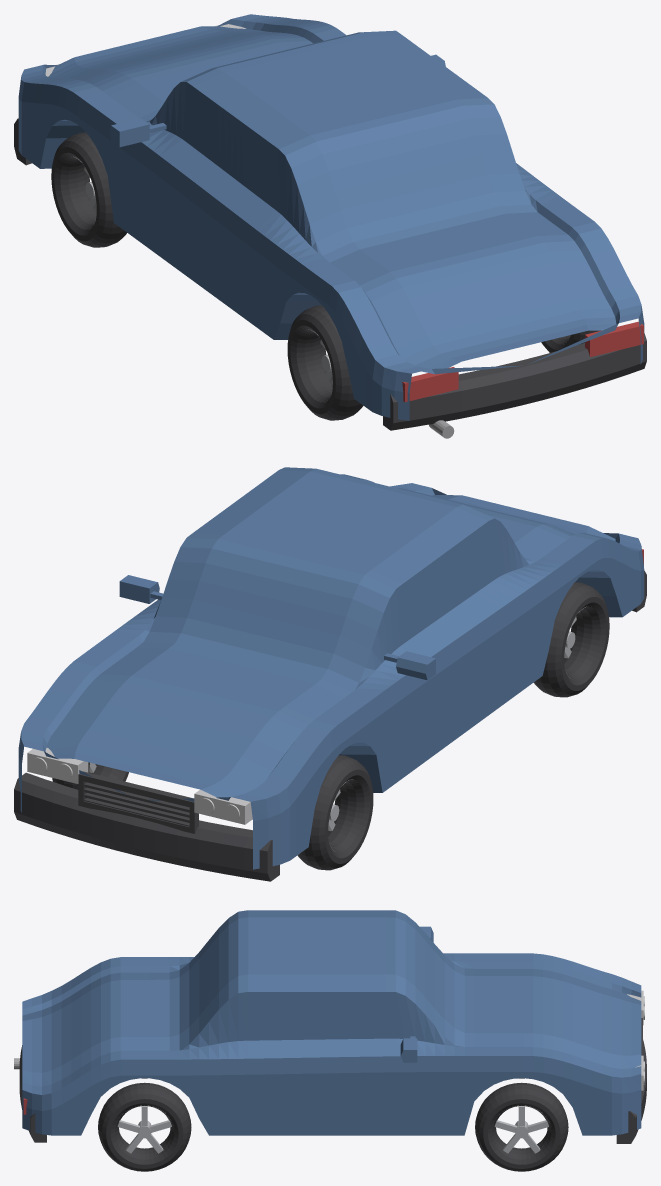
The model's file is vehicule_lore.glb.
The picture shows the model from 3 angles, top to bottom: view 1: azimuth 30°, elevation 25°; view 2: azimuth 150°, elevation 25°; view 3: azimuth 270°, elevation 25°; orthographic projection. The views are drawn at different scales.
Parts seen in each view (by area): view 1: carrosserie, pare_chocs_arriere, pneu_arriere_gauche, pneu_avant_gauche, feu_arriere_droit, feu_arriere_gauche, retroviseur_gauche; view 2: carrosserie, pare_chocs_avant, pneu_arriere_gauche, pneu_avant_gauche, calandre, phare_droit, phare_gauche, retroviseur_gauche, retroviseur_droit; view 3: carrosserie, pneu_avant_droite, pneu_arriere_droite, jante_avant_droite, jante_arriere_droite, pare_chocs_avant, pare_chocs_arriere, retroviseur_droit.
Part boxes in pixels (x1,y1,x2,y2): carrosserie: [18, 14, 644, 420]; pare_chocs_arriere: [383, 332, 646, 430]; pneu_arriere_gauche: [287, 305, 363, 420]; pneu_avant_gauche: [51, 132, 126, 247]; feu_arriere_droit: [585, 321, 643, 356]; feu_arriere_gauche: [402, 367, 458, 402]; retroviseur_gauche: [109, 118, 166, 147]; carrosserie: [18, 467, 644, 869]; pare_chocs_avant: [14, 772, 279, 881]; pneu_arriere_gauche: [533, 582, 609, 697]; pneu_avant_gauche: [297, 755, 373, 870]; calandre: [78, 771, 198, 833]; phare_droit: [27, 748, 88, 783]; phare_gauche: [194, 789, 252, 824]; retroviseur_gauche: [384, 651, 435, 680]; retroviseur_droit: [119, 575, 163, 603]; carrosserie: [22, 910, 641, 1135]; pneu_avant_droite: [475, 1082, 568, 1171]; pneu_arriere_droite: [98, 1082, 191, 1171]; jante_avant_droite: [494, 1105, 549, 1153]; jante_arriere_droite: [117, 1105, 171, 1153]; pare_chocs_avant: [616, 1040, 646, 1143]; pare_chocs_arriere: [19, 1045, 46, 1142]; retroviseur_droit: [400, 1036, 417, 1062].
Bounding box in the file's own units: 2.12 × 1.42 × 4.6.
